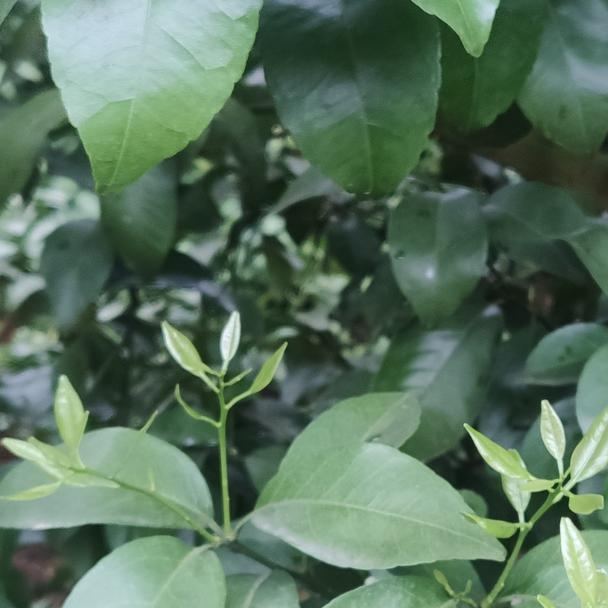shoot: (11, 383, 206, 542), (446, 414, 608, 598), (157, 322, 285, 500)
